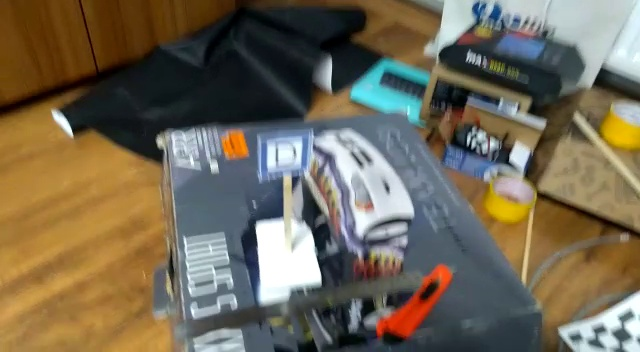durak: (257, 130, 316, 181)
